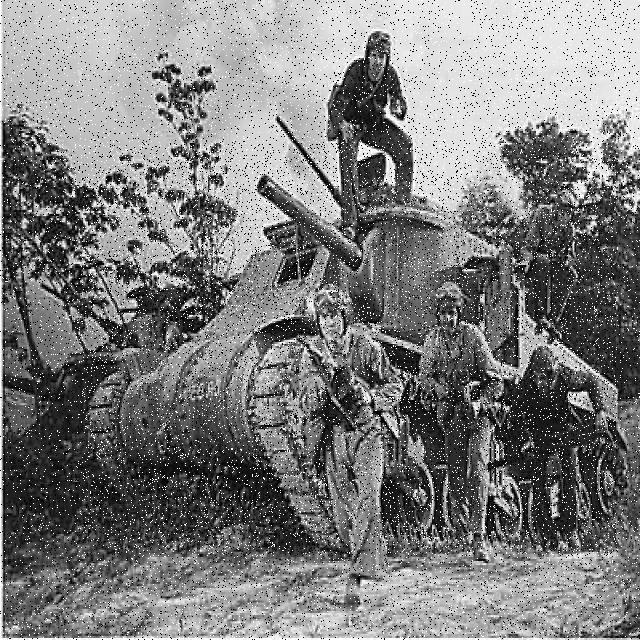MIL_MBT: (82, 143, 616, 556)
